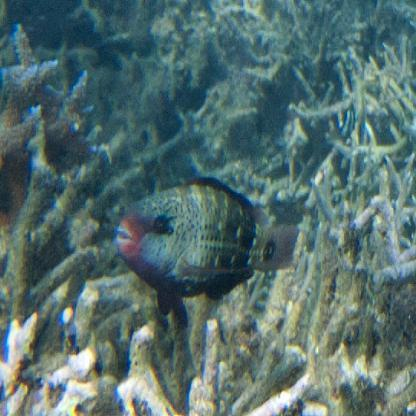Scaridae -Parrotfishes-: (114, 172, 299, 326)
